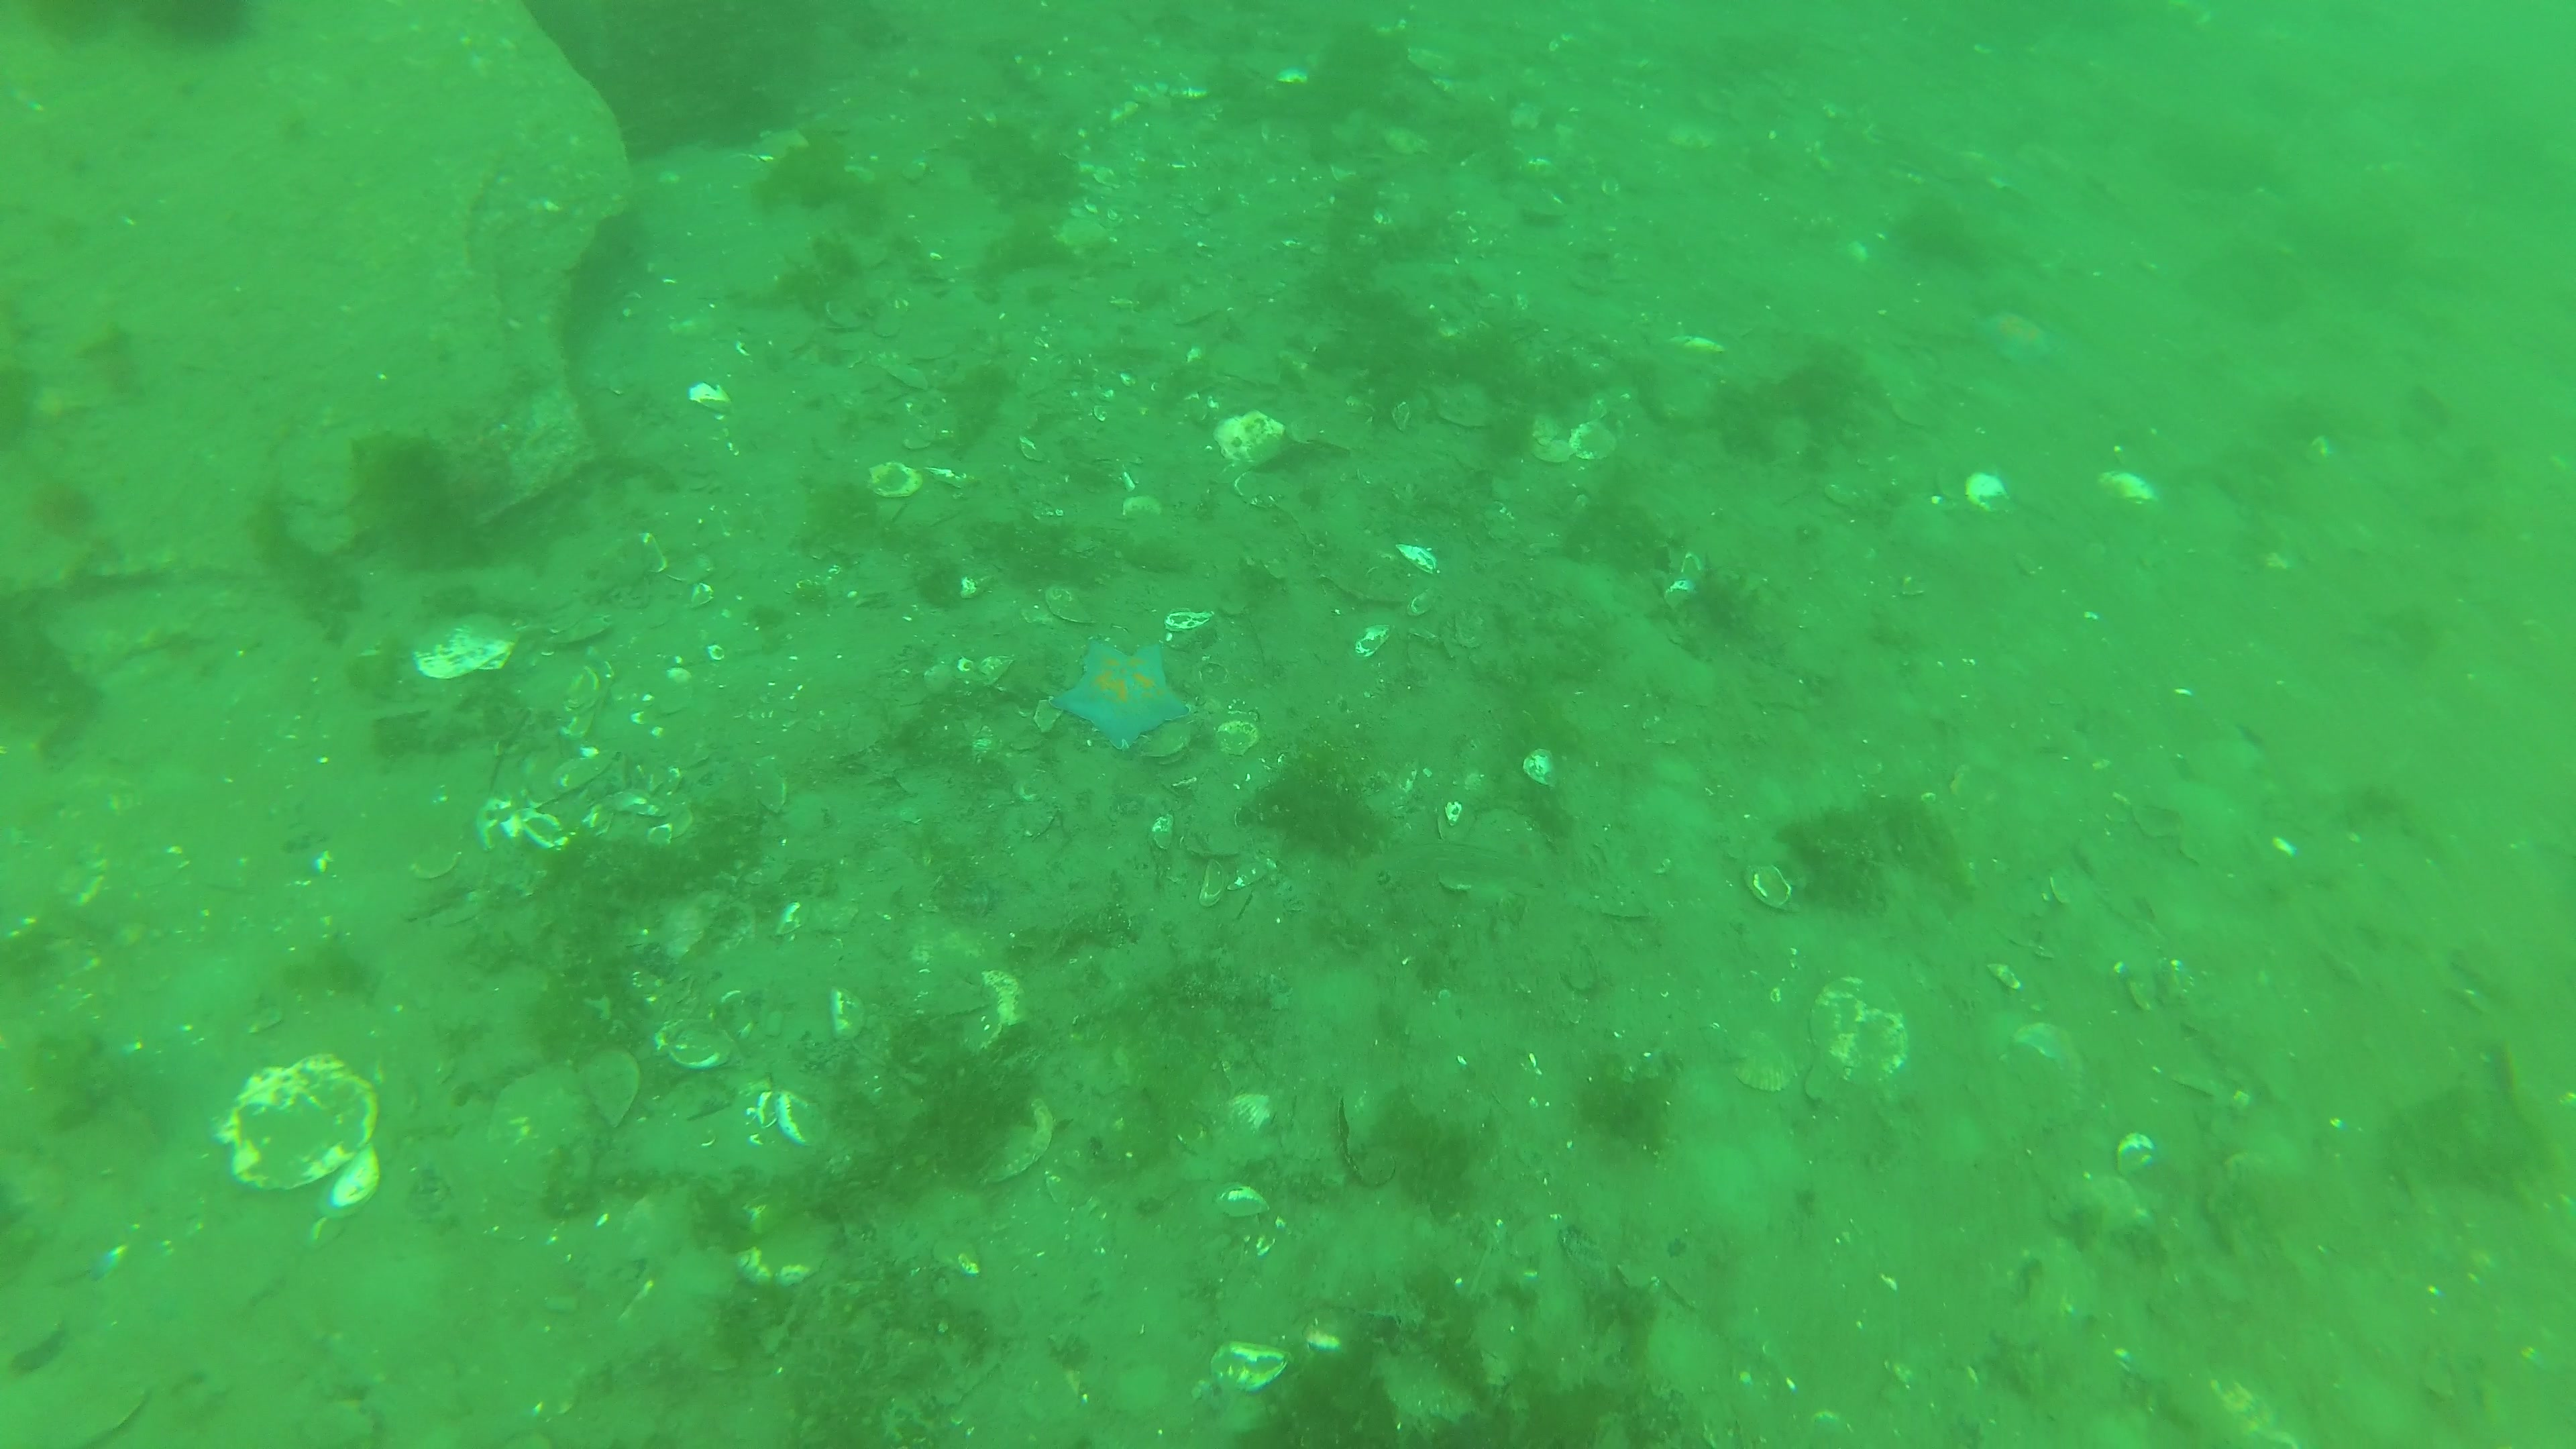starfish: (1046, 637, 1194, 754), (1966, 299, 2058, 375)
